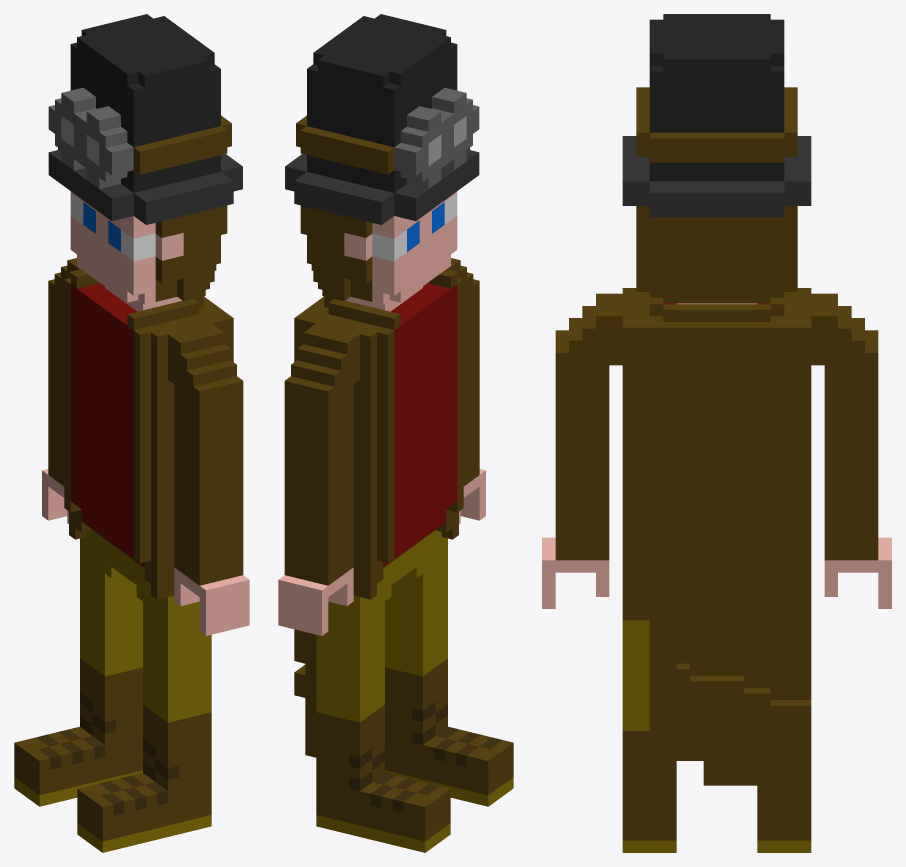
File: Roppotta_Man.dae
3 renders of one model, left to right at view 1: azimuth 30°, elevation 25°; view 2: azimuth 150°, elevation 25°; view 3: azimuth 270°, elevation 25°, orthographic. The views are drawn at different scales.
Visible parts, largest first — view 1: Matrix_1; view 2: Matrix_1; view 3: Matrix_1.
Boxes of the visible parts, x1=… form: Matrix_1: x1=14, y1=14, x2=249, y2=852; Matrix_1: x1=278, y1=14, x2=513, y2=852; Matrix_1: x1=542, y1=14, x2=891, y2=852.
Size of the model in its own units: 14 by 66 by 26.
1 material, 1 textured.
